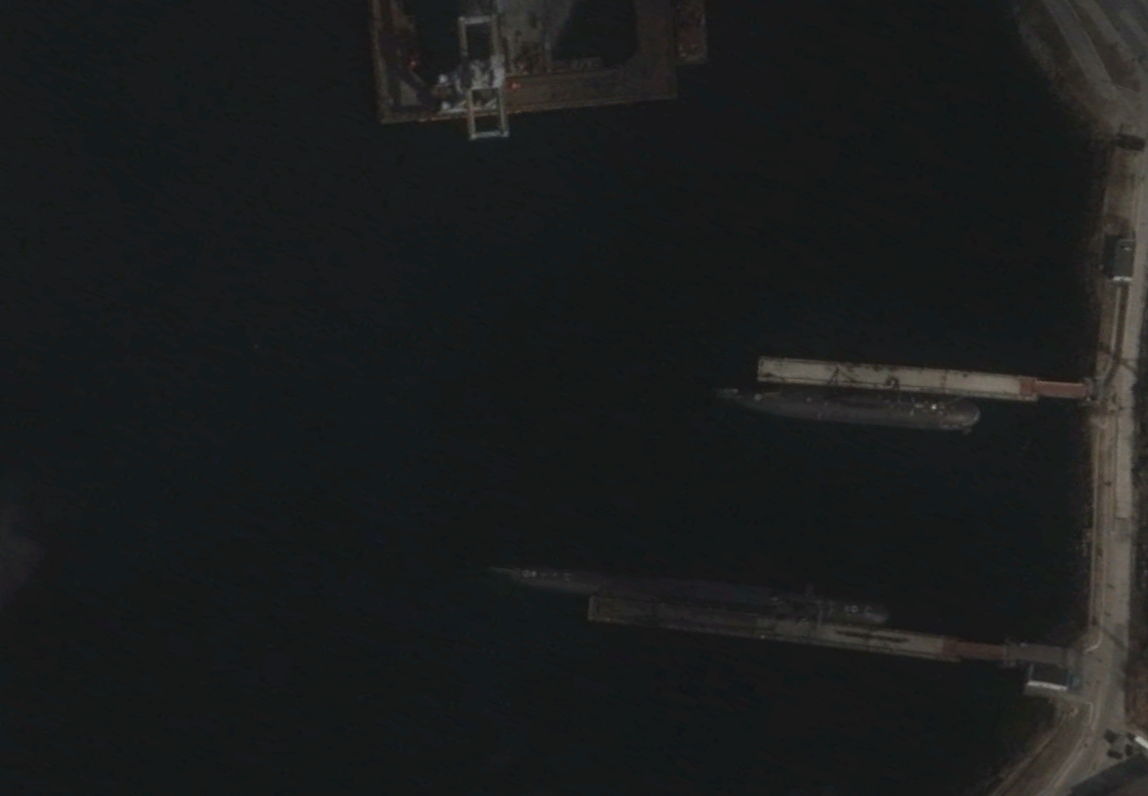submarine: (492, 557, 886, 624), (704, 382, 982, 430)
